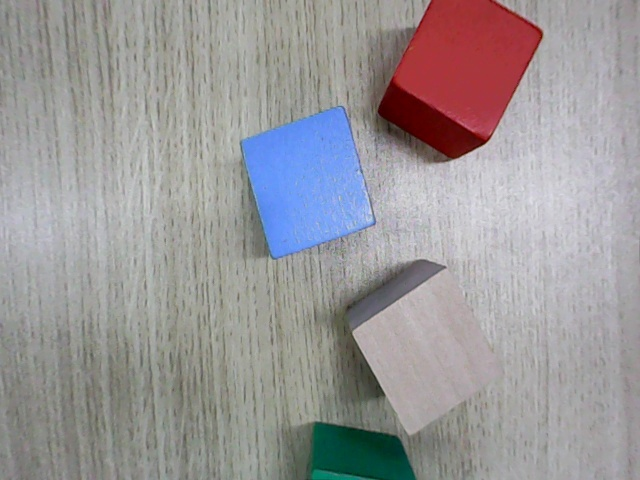upside of big cube: (350, 267, 507, 438), (390, 0, 544, 143), (238, 105, 377, 263)
